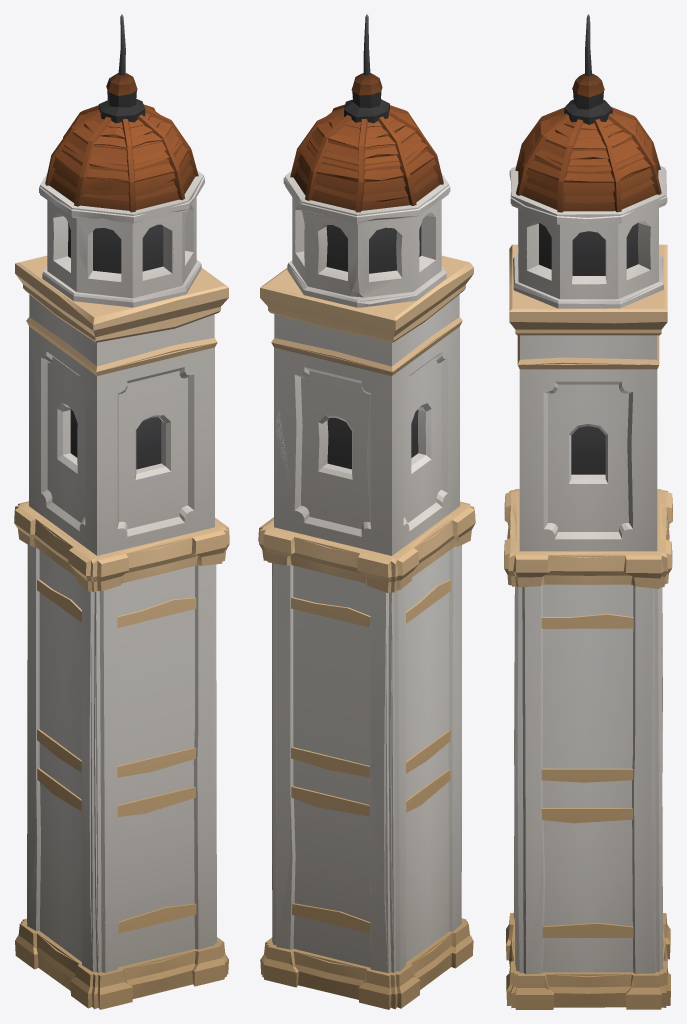
File: Hall Tower 01.fbx
3 views of the same model, side by side, from view 1: azimuth 30°, elevation 25°; view 2: azimuth 150°, elevation 25°; view 3: azimuth 270°, elevation 25° (orthographic).
Visible parts, largest first — view 1: Hall Tower 01 high, Hall Tower 01, Hall Tower 01 low; view 2: Hall Tower 01 high, Hall Tower 01, Hall Tower 01 low; view 3: Hall Tower 01 high, Hall Tower 01, Hall Tower 01 low.
Boxes of the visible parts, <box> form: Hall Tower 01 high: <box>14,14,229,1006</box>; Hall Tower 01: <box>15,90,228,1009</box>; Hall Tower 01 low: <box>15,116,228,1007</box>; Hall Tower 01 high: <box>258,14,475,1005</box>; Hall Tower 01: <box>260,91,473,1009</box>; Hall Tower 01 low: <box>260,138,473,1007</box>; Hall Tower 01 high: <box>504,14,672,1007</box>; Hall Tower 01: <box>506,90,670,1009</box>; Hall Tower 01 low: <box>508,130,668,989</box>.
Size of the model in its own units: 2.99 by 18.76 by 2.99.
Materials: 1 (1 with a texture image).
